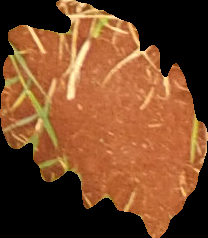soil: (2, 4, 205, 236)
